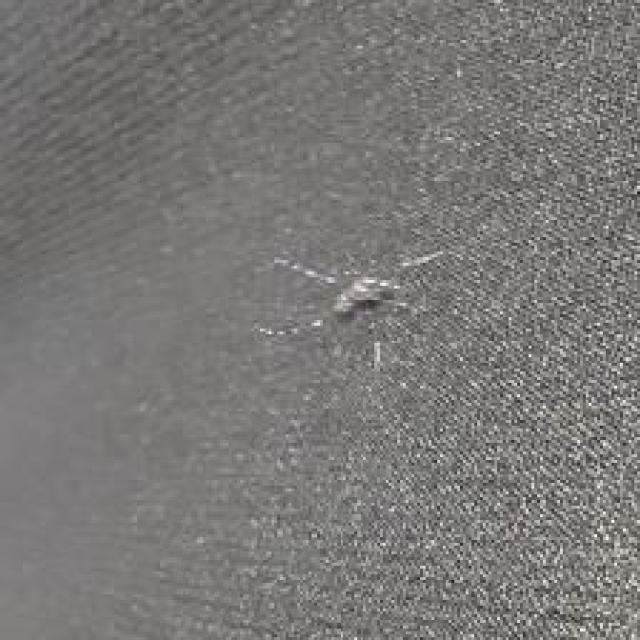Aedes albopictus: (257, 246, 449, 371)
